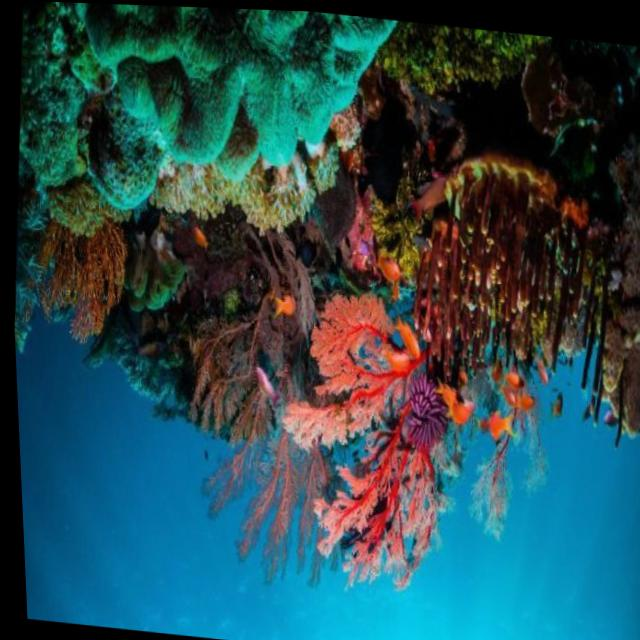Healthy Coral: (152, 258, 552, 626), (380, 119, 609, 422), (151, 130, 371, 254), (6, 176, 121, 348)
